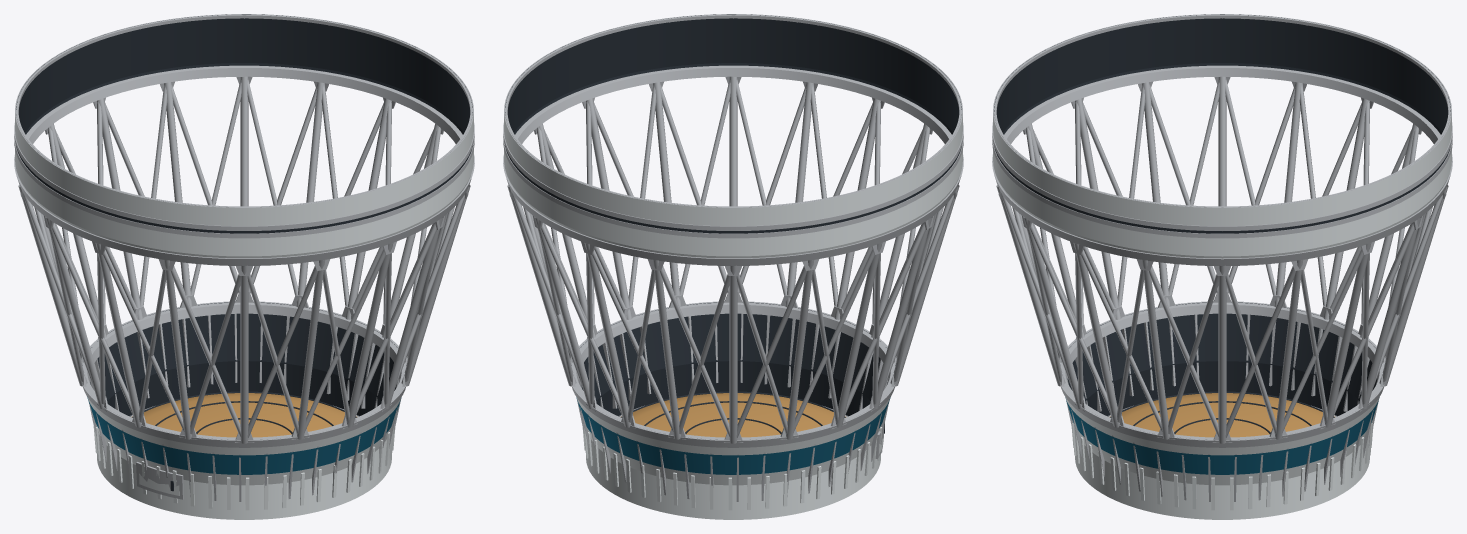
Rendered from interstage_hot_staging_d54_to_d84.fbx.
3 renders of one model, left to right at view 1: azimuth 30°, elevation 25°; view 2: azimuth 150°, elevation 25°; view 3: azimuth 270°, elevation 25°, orthographic.
Parts seen in each view (by area): view 1: interstage_hot_staging_d54_to_d84_LOD0; view 2: interstage_hot_staging_d54_to_d84_LOD0; view 3: interstage_hot_staging_d54_to_d84_LOD0.
Part boxes in pixels (x1,y1,x2,y2): interstage_hot_staging_d54_to_d84_LOD0: [14, 14, 474, 519]; interstage_hot_staging_d54_to_d84_LOD0: [503, 14, 963, 519]; interstage_hot_staging_d54_to_d84_LOD0: [992, 14, 1452, 519].
Size of what is drawn, in the model's own units: 8.43 by 7 by 8.43.
